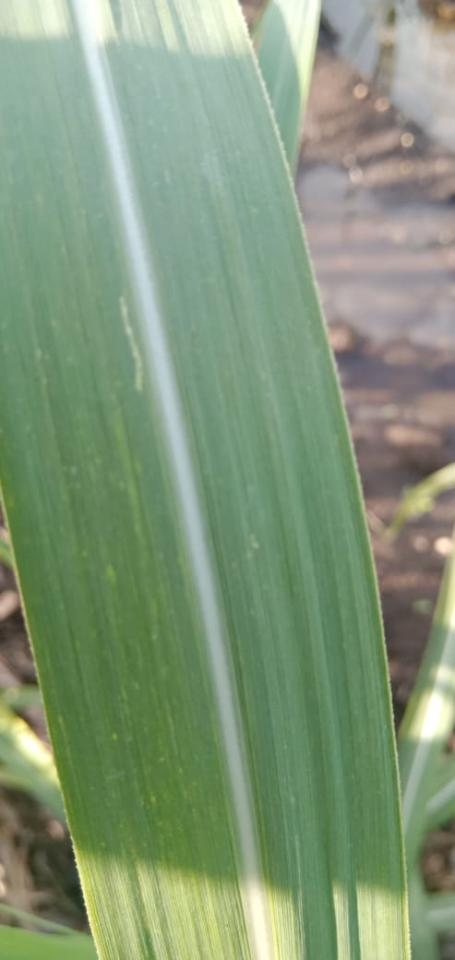Healthy: (0, 0, 408, 959), (257, 0, 320, 174)
